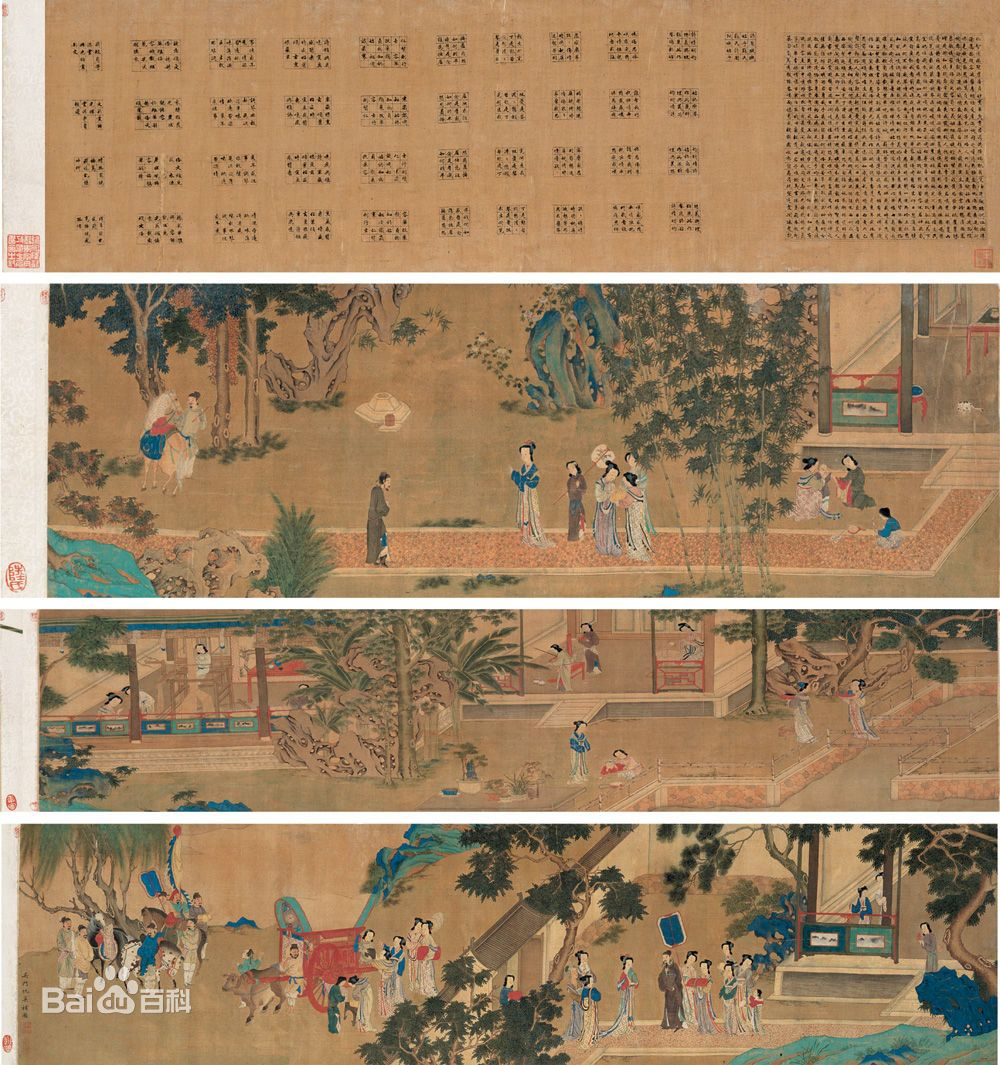bamboo: (653, 303, 766, 596), (613, 296, 659, 448), (774, 284, 802, 471)
bowl: (838, 692, 856, 701), (778, 695, 792, 702)
bridge: (846, 725, 961, 746)
decoration: (848, 526, 861, 533)
fan: (659, 917, 684, 946), (146, 879, 161, 899), (593, 449, 611, 464)
flower: (469, 334, 512, 364), (495, 372, 532, 388), (560, 294, 574, 328), (523, 299, 549, 316)
grass: (269, 515, 322, 597)
horse: (147, 400, 171, 474), (173, 443, 189, 499), (97, 917, 123, 948), (119, 938, 138, 969), (140, 908, 163, 931), (163, 945, 179, 971)
house: (821, 289, 1000, 437)
kid: (566, 463, 587, 543), (821, 467, 836, 505), (753, 992, 767, 1031), (239, 947, 253, 971)
man: (363, 474, 395, 564), (62, 920, 90, 992), (660, 954, 681, 1028), (176, 396, 199, 438), (331, 978, 349, 1029), (163, 897, 210, 915), (142, 927, 157, 965), (289, 947, 301, 973)
tree: (373, 1013, 574, 1061), (53, 284, 354, 316), (747, 610, 998, 647), (424, 617, 539, 697), (875, 829, 1000, 892), (302, 619, 392, 702), (220, 315, 262, 437), (447, 964, 542, 1013), (663, 825, 727, 893), (391, 619, 417, 779), (37, 885, 135, 912), (514, 826, 582, 863), (52, 451, 139, 477), (473, 831, 509, 890), (66, 503, 163, 523), (129, 323, 154, 397), (600, 874, 638, 913), (556, 884, 577, 951), (49, 389, 84, 417), (530, 886, 557, 911), (972, 965, 1000, 989), (961, 899, 989, 920), (550, 954, 565, 987), (759, 825, 775, 855), (793, 829, 829, 840), (779, 859, 804, 873), (952, 925, 963, 954)
wagon: (244, 980, 331, 1010), (311, 935, 362, 975)
wall: (494, 914, 547, 949), (610, 831, 656, 864), (462, 941, 496, 967), (737, 855, 767, 876)
well: (359, 392, 405, 429)
willow: (24, 826, 175, 873)
woman: (510, 447, 547, 547), (715, 945, 748, 1028), (621, 477, 652, 557), (577, 958, 600, 1047), (409, 920, 436, 993), (686, 955, 713, 1027), (380, 937, 405, 1008), (617, 957, 638, 1031), (670, 623, 705, 667), (851, 681, 874, 743), (795, 458, 819, 517), (601, 469, 618, 549), (843, 460, 869, 508), (580, 625, 604, 677), (573, 723, 592, 787), (791, 686, 810, 739), (882, 508, 903, 553), (918, 925, 937, 970), (189, 641, 210, 680), (551, 646, 568, 690), (620, 750, 641, 782), (854, 887, 869, 924), (100, 693, 122, 718), (357, 932, 376, 959), (626, 458, 643, 479), (136, 689, 152, 711), (504, 976, 515, 997)
